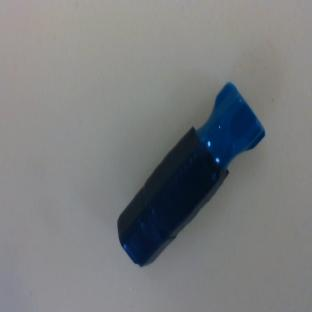part_2_bad: (100, 81, 276, 274)
